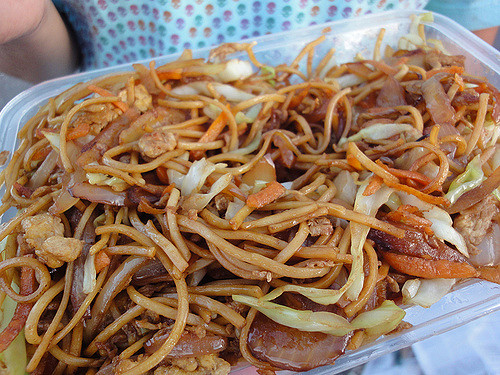plain spaghetti: (8, 71, 499, 367)
